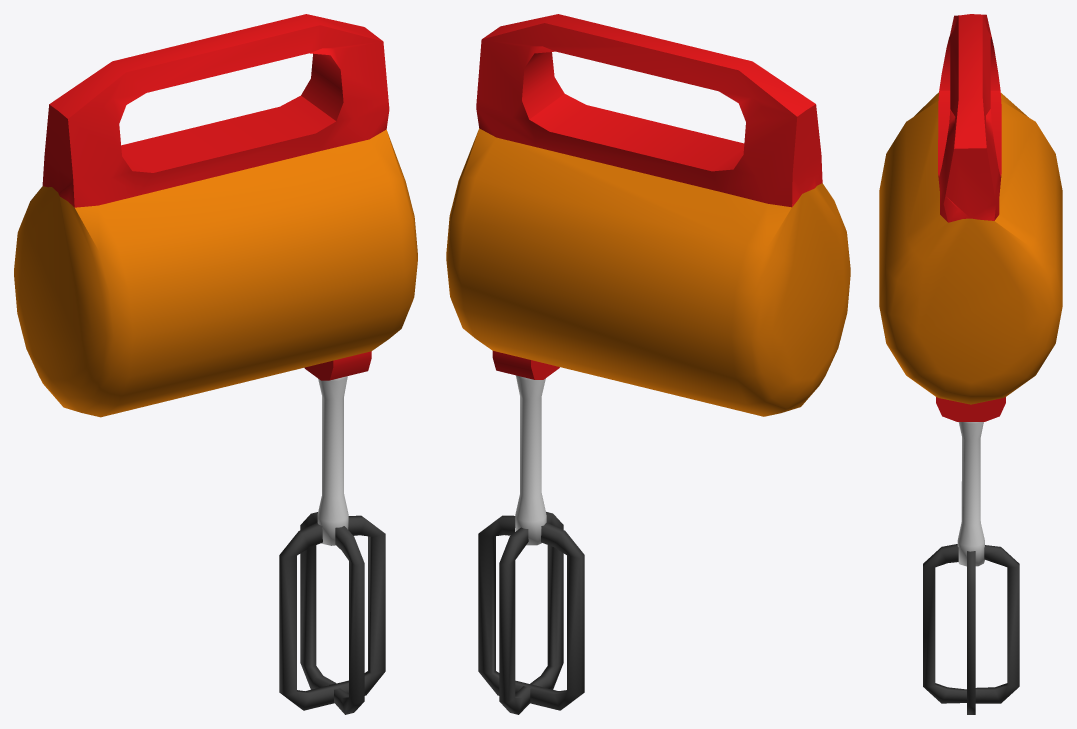
File: uploads_files_3681319_Mixer.fbx
The picture shows the model from 3 angles, left to right: view 1: azimuth 30°, elevation 25°; view 2: azimuth 150°, elevation 25°; view 3: azimuth 270°, elevation 25°; orthographic projection. The views are drawn at different scales.
Parts seen in each view (by area): view 1: Cylinder, Cylinder.001; view 2: Cylinder, Cylinder.001; view 3: Cylinder, Cylinder.001.
Part boxes in pixels (box(x1,y1,x2,y2)): Cylinder: box(14, 14, 417, 417); Cylinder.001: box(279, 376, 385, 714); Cylinder: box(446, 14, 850, 416); Cylinder.001: box(478, 375, 584, 714); Cylinder: box(879, 14, 1062, 421); Cylinder.001: box(923, 422, 1019, 714).
Bounding box in the file's own units: 211 × 417 × 116.
